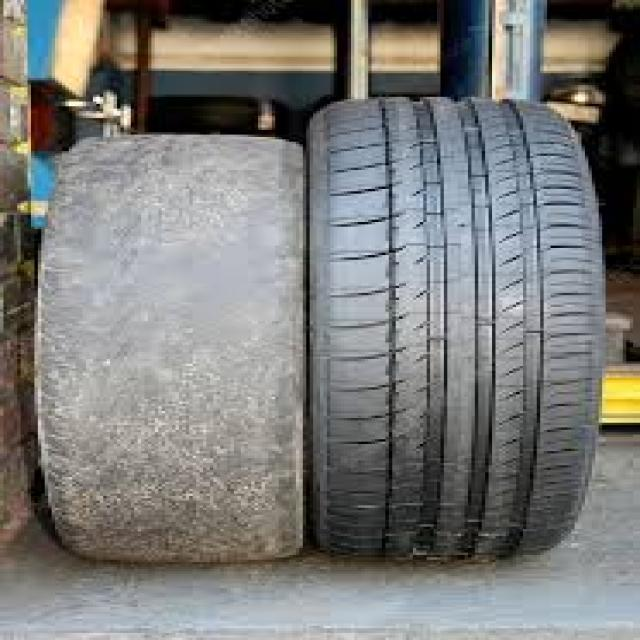Flat spots: (57, 162, 306, 544)
Non-defective: (316, 108, 570, 539)
